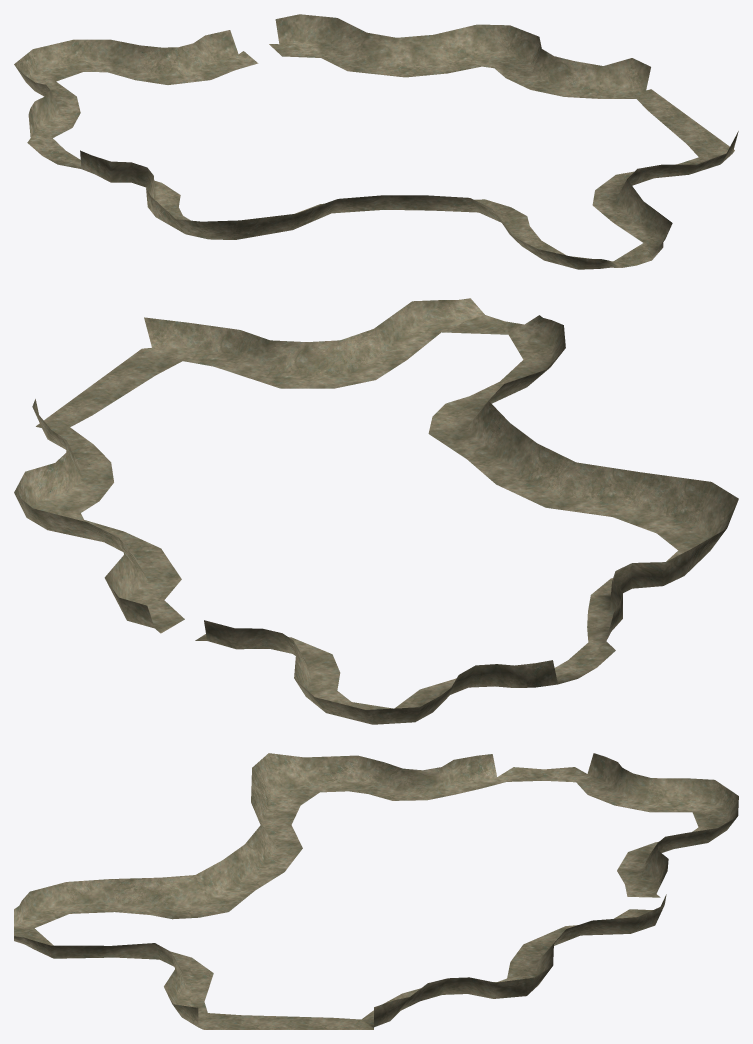
File: EKH_JAIL_PS_JA_OBJECT11.fbx
3 renders of one model, top to bottom at view 1: azimuth 30°, elevation 25°; view 2: azimuth 150°, elevation 25°; view 3: azimuth 270°, elevation 25°, orthographic. The views are drawn at different scales.
Visible parts, largest first — view 1: EKH_JAIL_PS_JA_OBJECT11; view 2: EKH_JAIL_PS_JA_OBJECT11; view 3: EKH_JAIL_PS_JA_OBJECT11.
Boxes of the visible parts, left/top/right/bottom form: EKH_JAIL_PS_JA_OBJECT11: left=14, top=14, right=738, bottom=269; EKH_JAIL_PS_JA_OBJECT11: left=14, top=298, right=738, bottom=724; EKH_JAIL_PS_JA_OBJECT11: left=14, top=753, right=738, bottom=1029.
Bounding box in the file's own units: 181586 × 9138 × 212982.
Materials: 1 (1 with a texture image).
